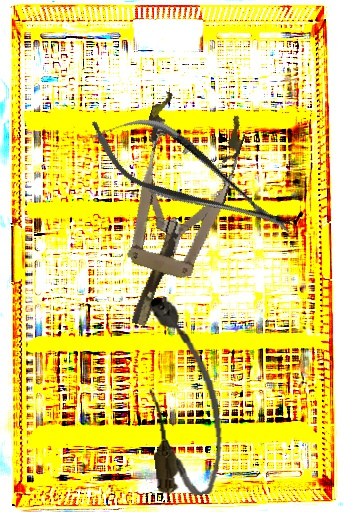Cannula: (137, 292, 229, 500)
Micro Scissor: (74, 91, 308, 264)
Speculum: (90, 88, 251, 339)
